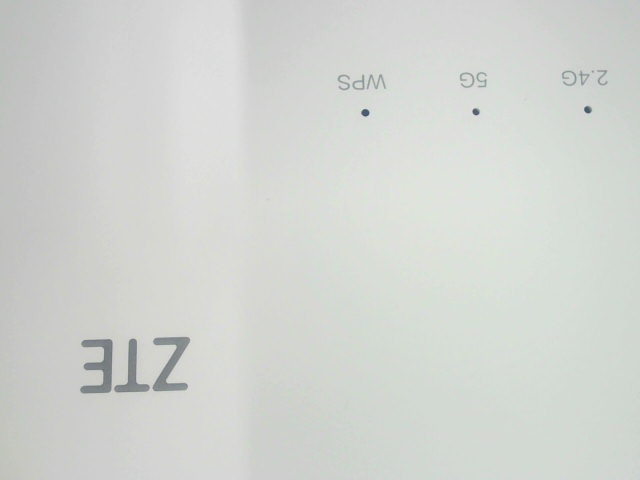AO_ZTESmall: (69, 311, 197, 403)
